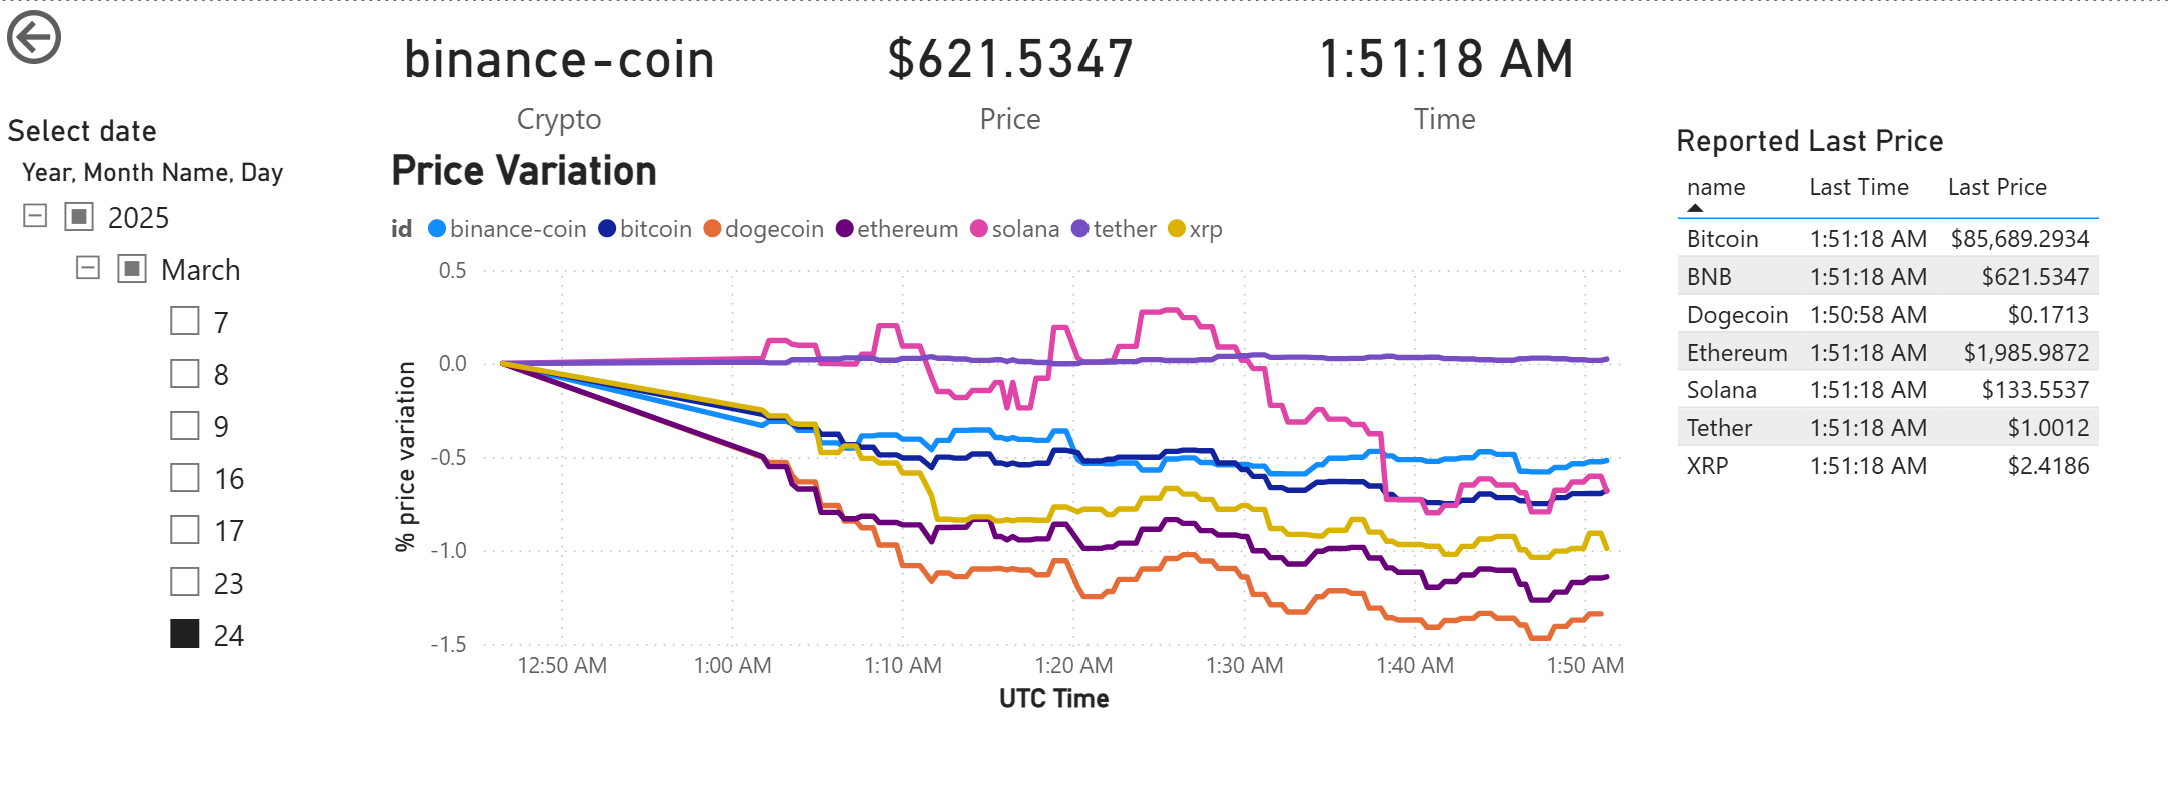

What the dashboard file says about the page in this screenshot:
{"tool":"powerbi","page":{"name":"Page 1","canvas":[1280,720],"ordinal":0},"visuals":[{"type":"lineChart","title":"Price Variation","fields":{"Category":["crypto_data.datetime"],"Series":["crypto_data.id"],"Y":["Max(crypto_data.priceVariation)"]},"box":[207.7,78.2,750.2,475.4],"z":0},{"type":"actionButton","box":[0,0,100,40],"z":1000},{"type":"slicer","title":"Crypto","fields":{"Values":["crypto_data.id"]},"box":[1011.6,306.6,197.8,280.9],"z":2000},{"type":"tableEx","fields":{"Values":["cryto_currencies.symbol","crypto_last_value.id","crypto_last_value.Last Price"]},"box":[996.5,78.2,239.3,217.1],"z":3000},{"type":"slicer","title":"Select date","fields":{"Values":["crypto_data.datetime.Variation.Date Hierarchy.Year","crypto_data.datetime.Variation.Date Hierarchy.Month","crypto_data.datetime.Variation.Date Hierarchy.Day"]},"box":[7.7,63.1,184.6,384.6],"z":4000}]}

Visuals, with their boxes on the page's 1280x720 design canvas (x1, y1, x2, y2). These are canvas units, not pixel positions in the 2168x806 screenshot, which may show the page scaled, cropped or inside an application window:
"Price Variation" lineChart: 208:78:958:554
actionButton: 0:0:100:40
"Crypto" slicer: 1012:307:1209:588
tableEx - cryto_currencies.symbol x crypto_last_value.id: 996:78:1236:295
"Select date" slicer: 8:63:192:448
